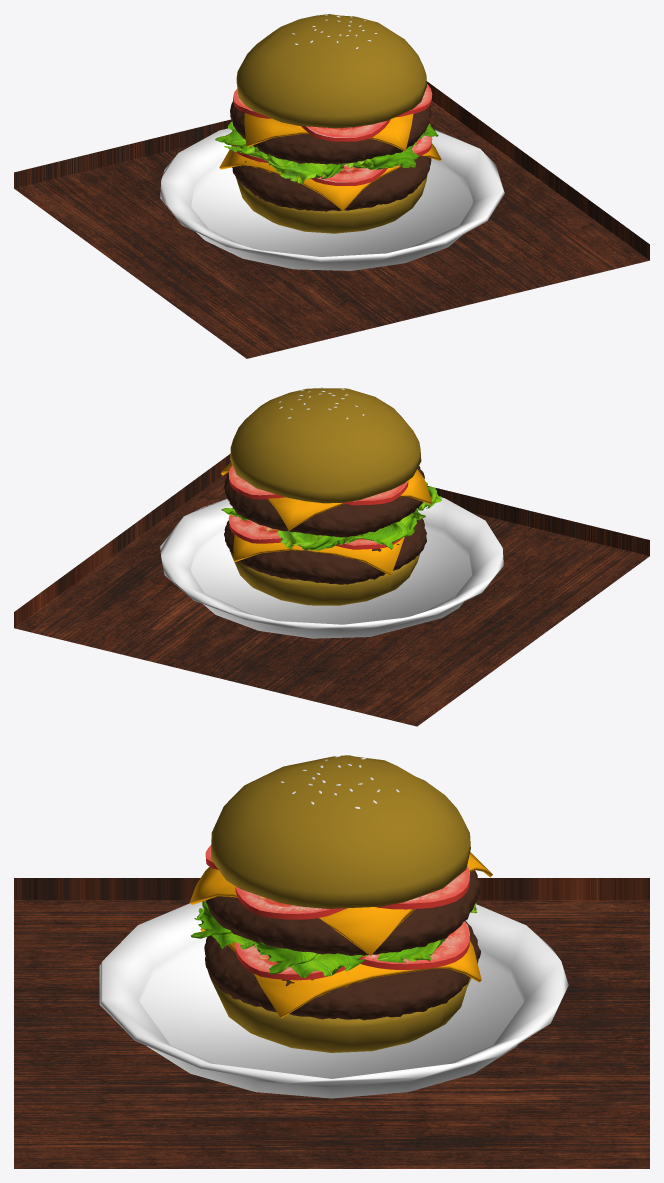
The picture shows the model from 3 angles, top to bottom: view 1: azimuth 30°, elevation 25°; view 2: azimuth 150°, elevation 25°; view 3: azimuth 270°, elevation 25°; orthographic projection. The views are drawn at different scales.
Visible parts, largest first — view 1: Plane.001, plate, Bun.001, Sphere.001, Sphere, Bun, Plane, cheese2, lettuce.004, tomato.001, tomato.005, lettuce.003 (+1 smaller); view 2: Plane.001, plate, Bun.001, Sphere.001, Sphere, Bun, cheese2, Plane, lettuce, lettuce.005, tomato.007, tomato.003 (+1 smaller); view 3: Plane.001, plate, Bun.001, Sphere.001, Sphere, Bun, Plane, cheese2, lettuce.002, tomato.007, tomato.002, tomato.006 (+3 smaller).
Part boxes in pixels (x1,y1,x2,y2): Plane.001: (14, 81, 649, 358); plate: (160, 128, 504, 270); Bun.001: (236, 14, 426, 128); Sphere.001: (232, 155, 431, 211); Sphere: (230, 100, 431, 164); Bun: (236, 175, 427, 233); Plane: (244, 113, 413, 151); cheese2: (219, 143, 441, 210); lettuce.004: (261, 153, 345, 183); tomato.001: (301, 119, 390, 141); tomato.005: (311, 160, 387, 185); lettuce.003: (344, 143, 418, 169); Plane.001: (14, 454, 649, 726); plate: (160, 497, 503, 638); Bun.001: (230, 388, 421, 503); Sphere.001: (224, 518, 426, 584); Sphere: (224, 466, 426, 537); Bun: (230, 552, 420, 605); cheese2: (233, 535, 404, 575); Plane: (221, 462, 432, 530); lettuce: (277, 530, 364, 550); lettuce.005: (354, 508, 425, 549); tomato.007: (228, 515, 281, 543); tomato.003: (228, 466, 284, 499); Plane.001: (14, 878, 649, 1168); plate: (99, 902, 568, 1098); Bun.001: (211, 755, 470, 908); Sphere.001: (204, 921, 480, 1020); Sphere: (205, 870, 480, 955); Bun: (211, 977, 471, 1052); Plane: (190, 852, 492, 955); cheese2: (200, 928, 481, 1018); lettuce.002: (254, 942, 367, 978); tomato.007: (360, 921, 469, 969); tomato.002: (235, 886, 346, 919); tomato.006: (235, 942, 368, 980).
Size of the model in its own units: 480 by 220 by 480.
Materials: 9 (3 with a texture image).
